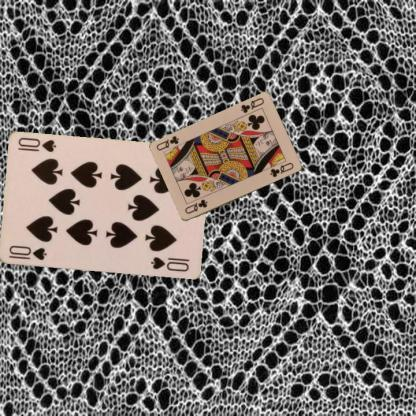10s: (6, 242, 48, 262)
Qc: (182, 197, 209, 216), (238, 96, 265, 114)
